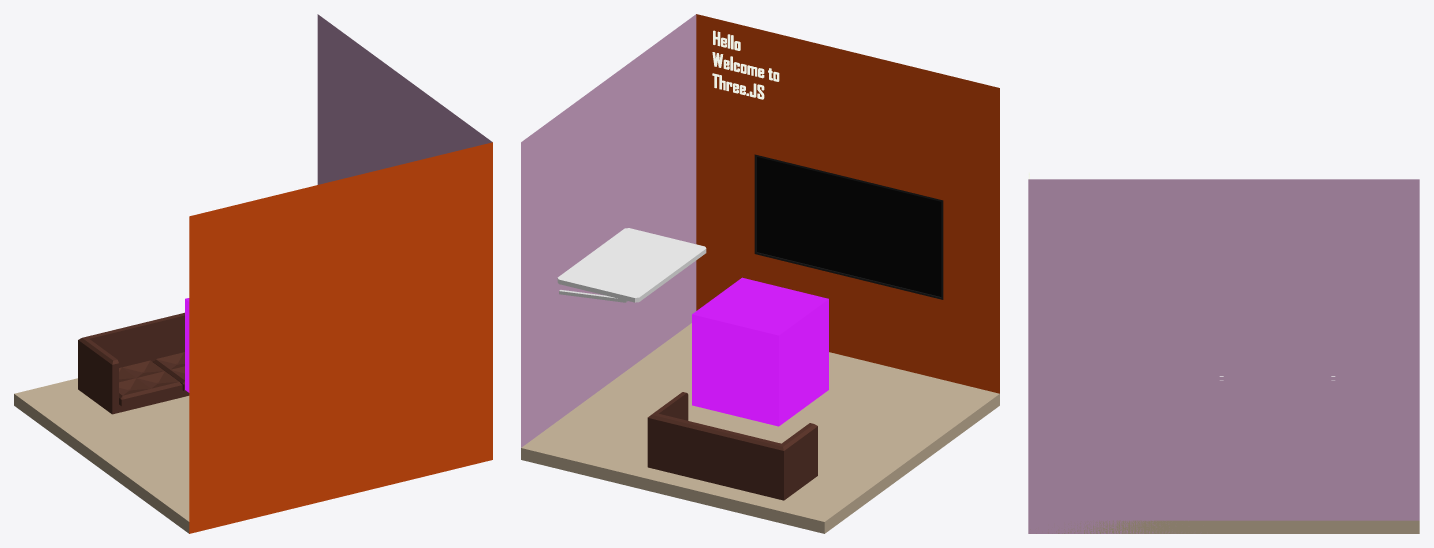
File: bakedroom.glb
The picture shows the model from 3 angles, left to right: view 1: azimuth 30°, elevation 25°; view 2: azimuth 150°, elevation 25°; view 3: azimuth 270°, elevation 25°; orthographic projection. The views are drawn at different scales.
Parts seen in each view (by area): view 1: RightSideLevel, LeftSideLevel, FloorLevel, sofa, pillow; view 2: RightSideLevel, LeftSideLevel, FloorLevel, tv, Cube, sofa, Table, helltext; view 3: LeftSideLevel, FloorLevel.
Part boxes in pixels (<box>): RightSideLevel: <box>189,142,492,533</box>; LeftSideLevel: <box>317,14,492,184</box>; FloorLevel: <box>14,378,189,533</box>; sofa: <box>78,312,189,414</box>; pillow: <box>119,352,185,406</box>; RightSideLevel: <box>696,14,999,393</box>; LeftSideLevel: <box>521,14,696,447</box>; FloorLevel: <box>521,323,999,533</box>; tv: <box>754,154,943,299</box>; Cube: <box>692,277,828,426</box>; sofa: <box>647,392,817,500</box>; Table: <box>557,228,706,302</box>; helltext: <box>712,30,779,99</box>; LeftSideLevel: <box>1028,179,1419,533</box>; FloorLevel: <box>1030,520,1419,533</box>.
Size of the model in its own units: 1 by 1 by 1.
